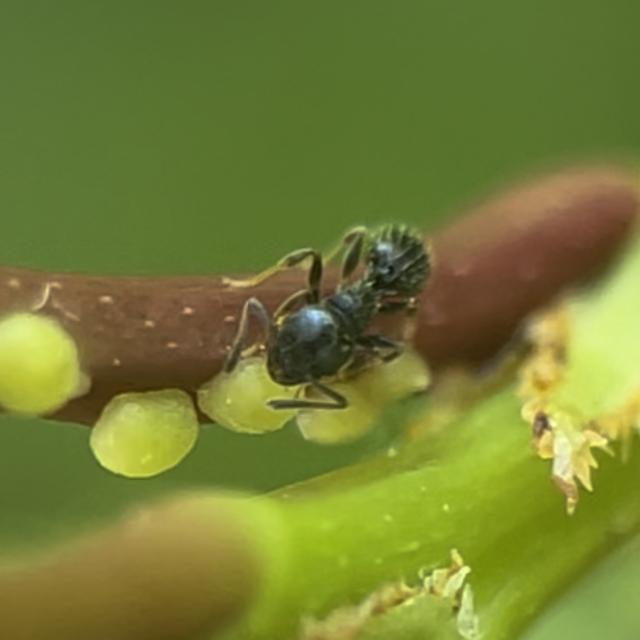Temnothorax: (222, 195, 453, 415)
